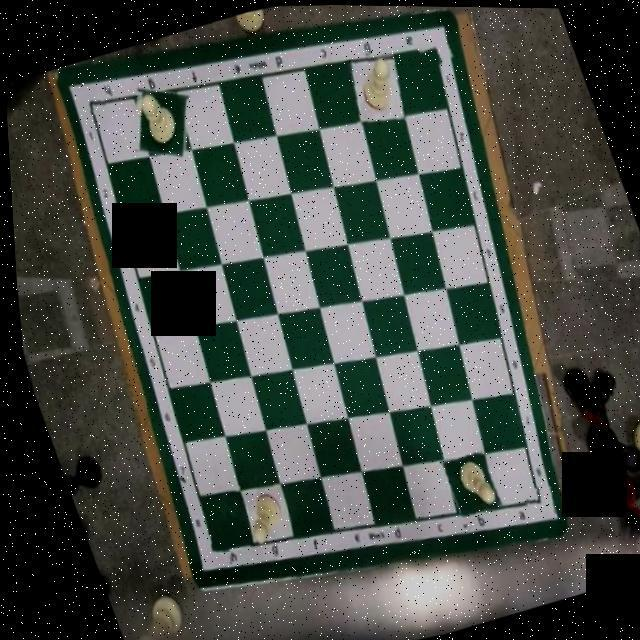chess-table-corners: (184, 529, 227, 571), (410, 31, 452, 68), (512, 482, 549, 518), (74, 86, 105, 118)
